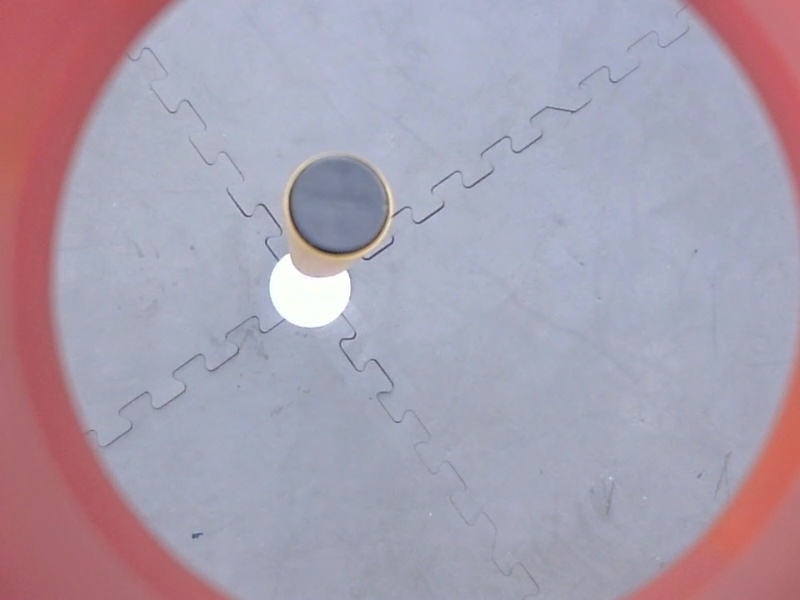tip: (278, 146, 399, 262)
